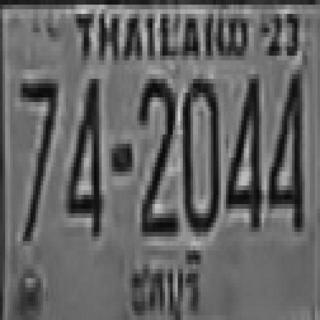N00: (180, 74, 218, 227)
N02: (137, 74, 175, 232)
N04: (64, 74, 102, 232), (267, 70, 302, 227), (225, 72, 260, 225)
N07: (18, 74, 56, 236)
P13: (124, 241, 201, 320)
